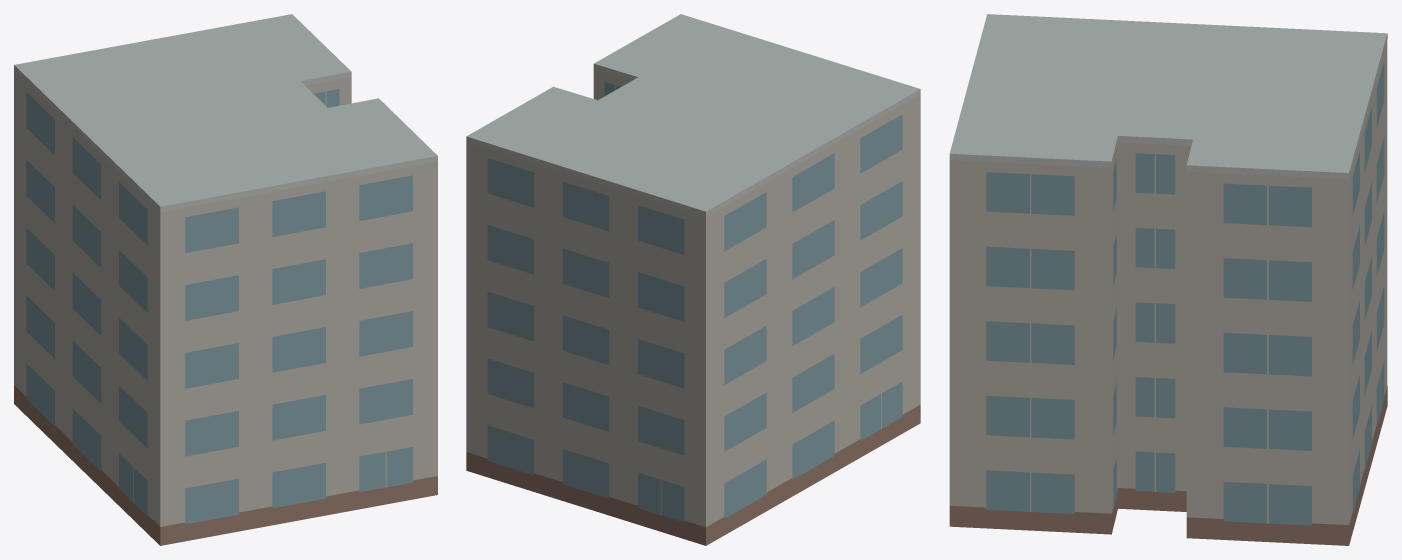
Rendered from survey-upis-32572047.glb.
3 views of the same model, side by side, from view 1: azimuth 30°, elevation 25°; view 2: azimuth 150°, elevation 25°; view 3: azimuth 270°, elevation 25° (orthographic). The views are drawn at different scales.
Visible parts, largest first — view 1: survey-upis-32572047.tmp; view 2: survey-upis-32572047.tmp; view 3: survey-upis-32572047.tmp.
Boxes of the visible parts, left/top/right/bottom form: survey-upis-32572047.tmp: left=14, top=14, right=437, bottom=545; survey-upis-32572047.tmp: left=466, top=14, right=920, bottom=545; survey-upis-32572047.tmp: left=949, top=14, right=1387, bottom=545.
Size of the model in its own units: 13.32 by 14.55 by 15.5.
